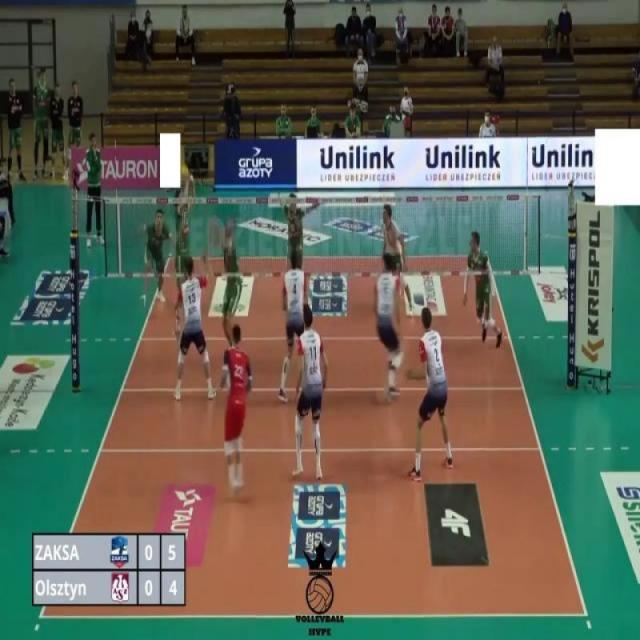volleyball: (180, 162, 191, 183)
